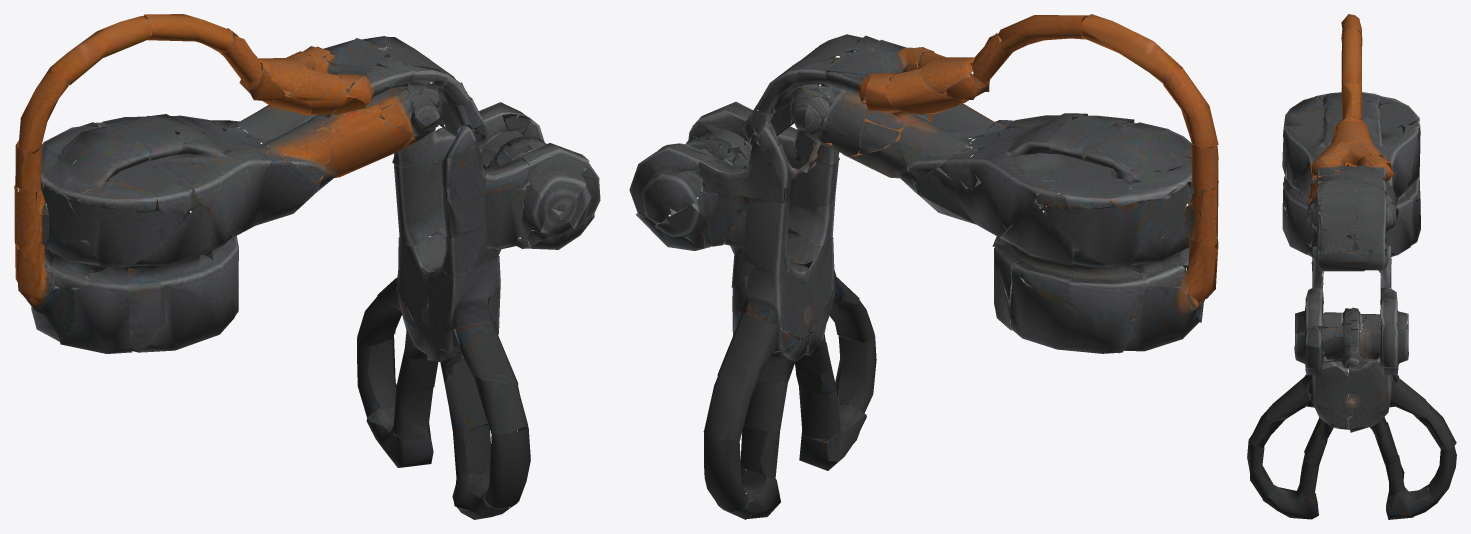
The model's file is hook-launcher-meshy-low.glb.
3 renders of one model, left to right at view 1: azimuth 30°, elevation 25°; view 2: azimuth 150°, elevation 25°; view 3: azimuth 270°, elevation 25°, orthographic. The views are drawn at different scales.
Parts seen in each view (by area): view 1: Mesh_0.011; view 2: Mesh_0.011; view 3: Mesh_0.011.
Boxes of the visible parts, left/top/right/bottom form: Mesh_0.011: left=14, top=14, right=600, bottom=519; Mesh_0.011: left=629, top=14, right=1218, bottom=519; Mesh_0.011: left=1247, top=14, right=1456, bottom=519.
Bounding box in the file's own units: 1.9 × 1.79 × 0.8804.
1 material, 1 textured.
